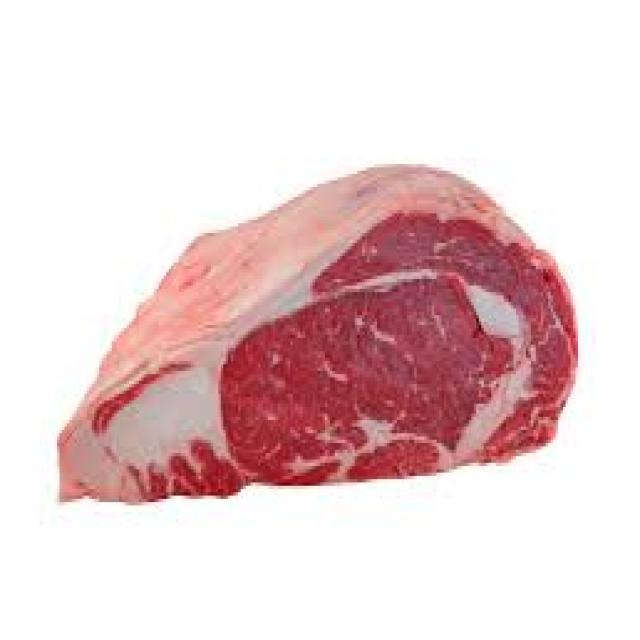beef: (60, 169, 580, 505)
